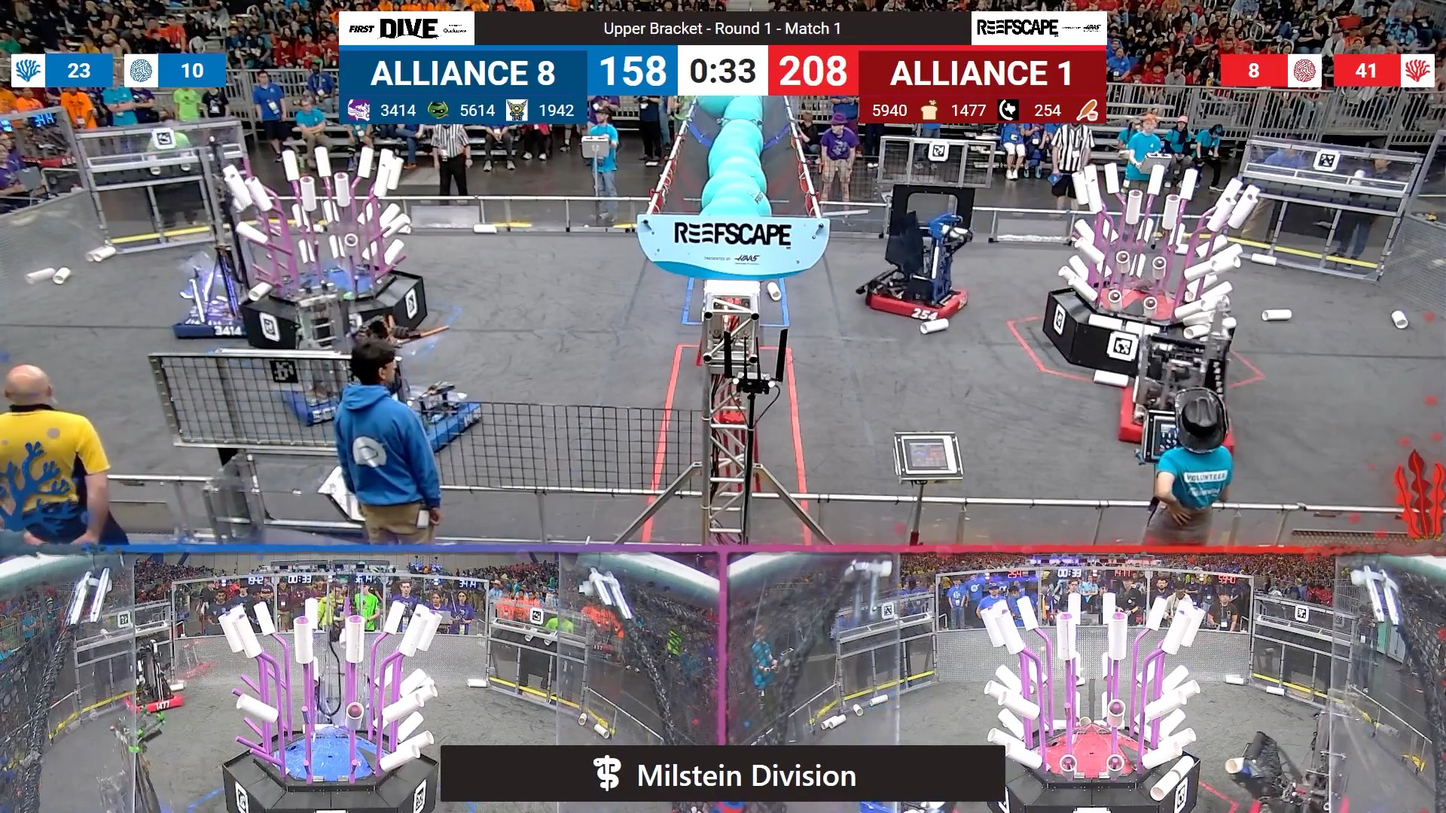bumpers: (1108, 384, 1245, 452), (862, 279, 977, 330), (175, 300, 258, 344), (1236, 784, 1355, 813), (122, 688, 194, 718)
